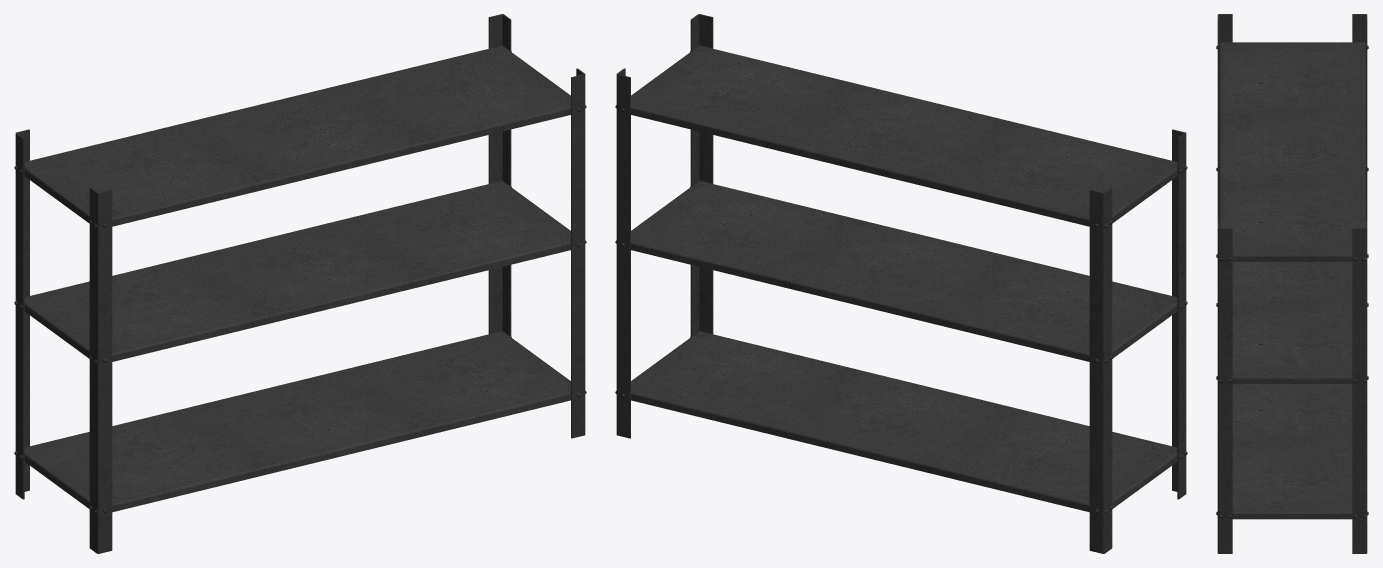
The model's file is metal_shelf_1.obj.
3 views of the same model, side by side, from view 1: azimuth 30°, elevation 25°; view 2: azimuth 150°, elevation 25°; view 3: azimuth 270°, elevation 25° (orthographic). The views are drawn at different scales.
Parts seen in each view (by area): view 1: metal_shelf_1; view 2: metal_shelf_1; view 3: metal_shelf_1.
Part boxes in pixels (x1,y1,x2,y2): metal_shelf_1: (14, 14, 586, 553); metal_shelf_1: (615, 14, 1187, 553); metal_shelf_1: (1216, 14, 1368, 553).
Size of the model in its own units: 3.42 by 2.4 by 1.02.
